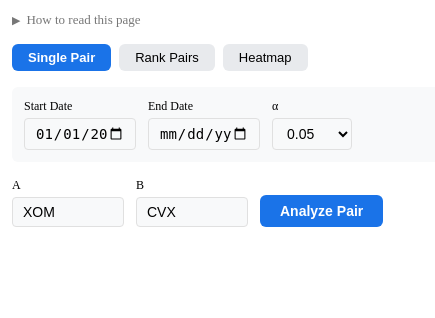
Scenario: Pairs Page › switches to Rank section on click
Click the button "Rank Pairs".
click(167, 58)  # box [119,44,215,71]
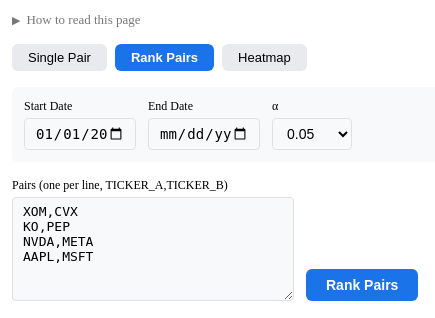
Check: the text "Pairs (one per line, TICKER_A,TICKER_B)" is shown, box [12,178,294,301]
Check: the button "Rank Pairs" below "Pairs (one per line, TICKER_A,TICKER_B)" is shown, box [306,269,418,301]
